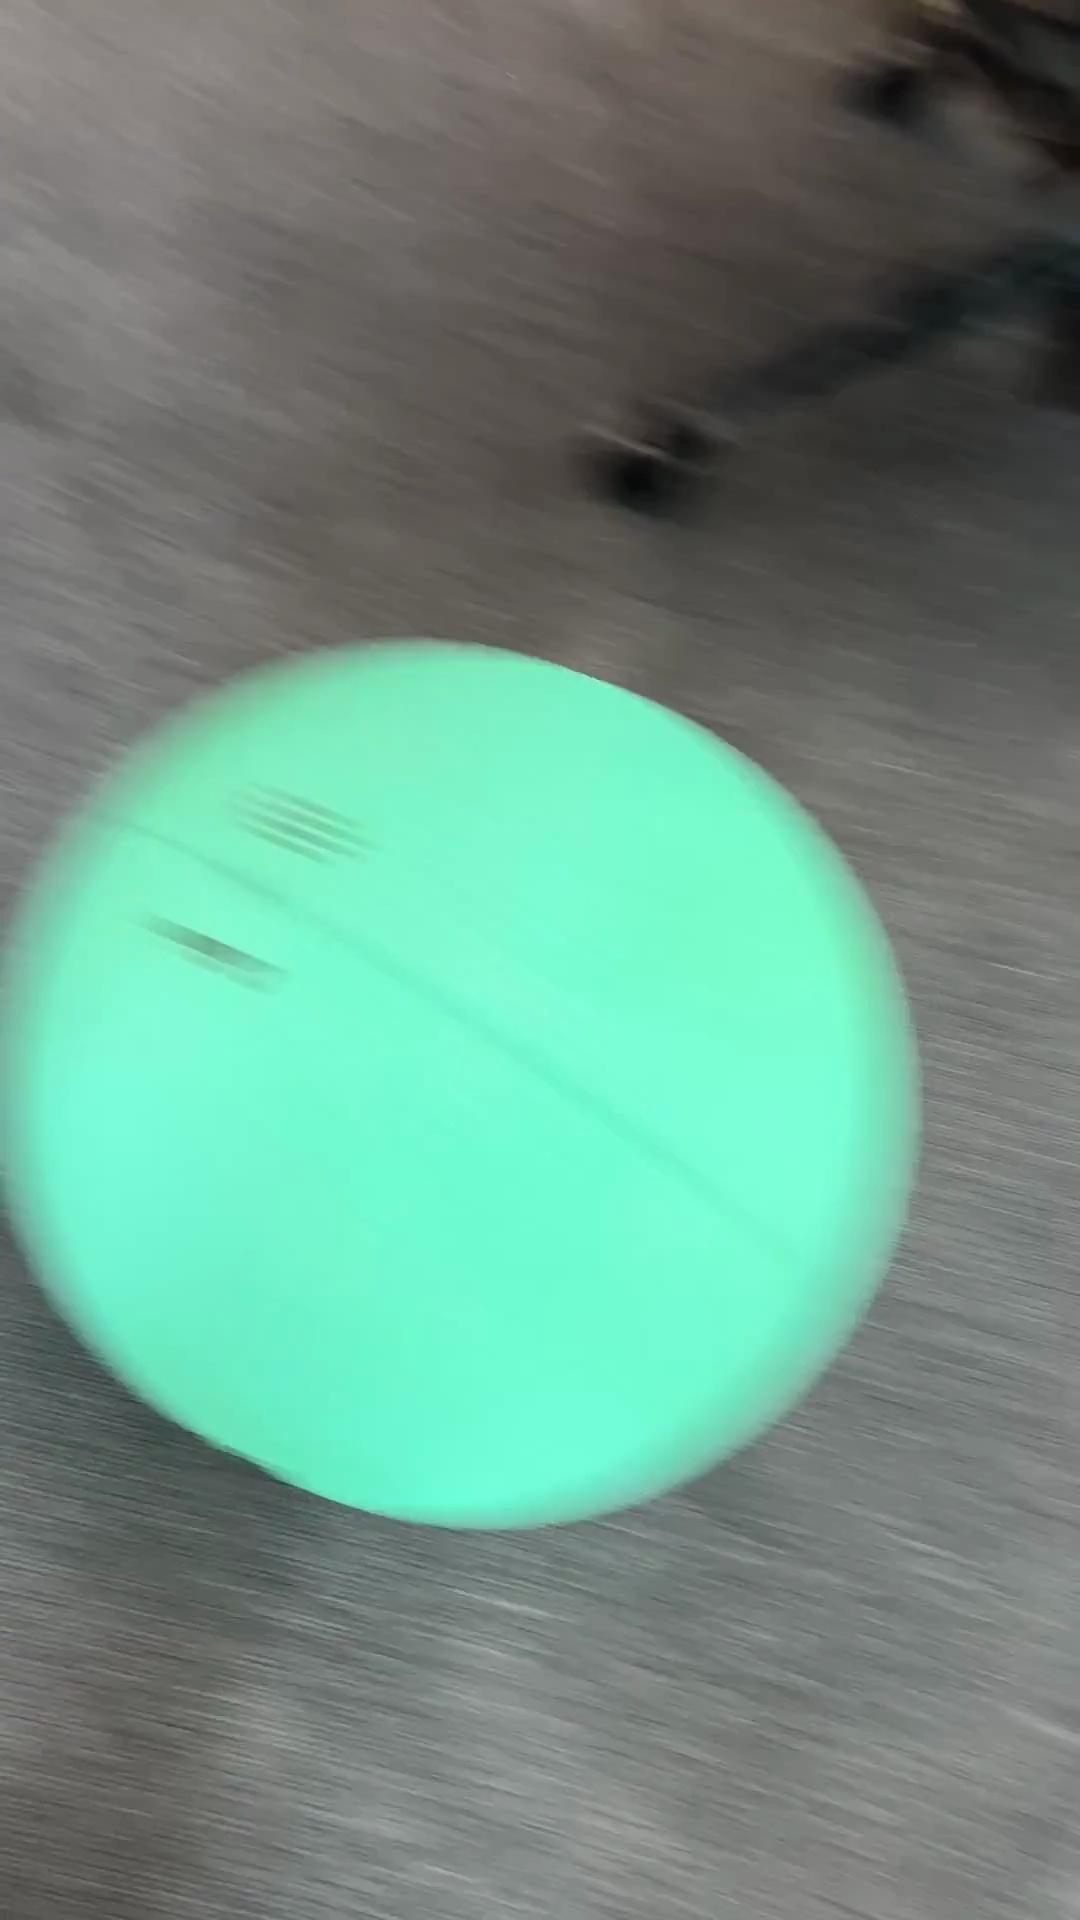ALGAE: (3, 633, 924, 1534)
